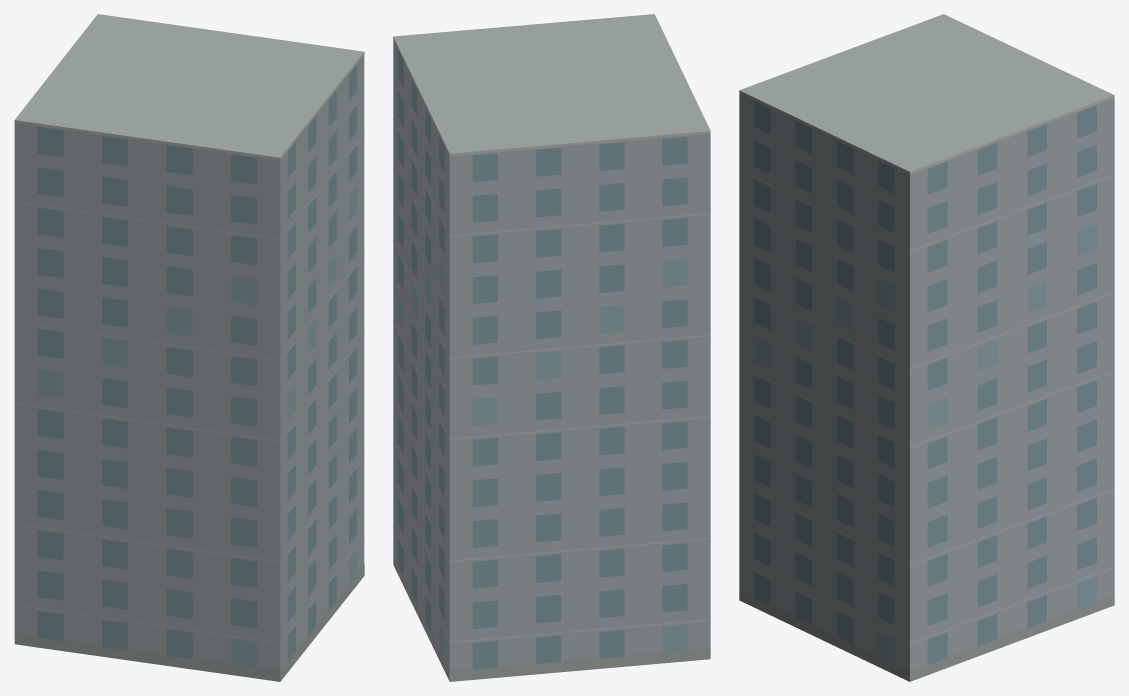
File: survey-upis-32914165.glb
3 renders of one model, left to right at view 1: azimuth 30°, elevation 25°; view 2: azimuth 150°, elevation 25°; view 3: azimuth 270°, elevation 25°, orthographic. The views are drawn at different scales.
Parts seen in each view (by area): view 1: survey-upis-32914165.tmp; view 2: survey-upis-32914165.tmp; view 3: survey-upis-32914165.tmp.
Boxes of the visible parts, left/top/right/bottom form: survey-upis-32914165.tmp: left=14, top=14, right=364, bottom=681; survey-upis-32914165.tmp: left=393, top=14, right=710, bottom=681; survey-upis-32914165.tmp: left=739, top=14, right=1114, bottom=681.
Size of the model in its own units: 33.01 by 49.7 by 33.17.
